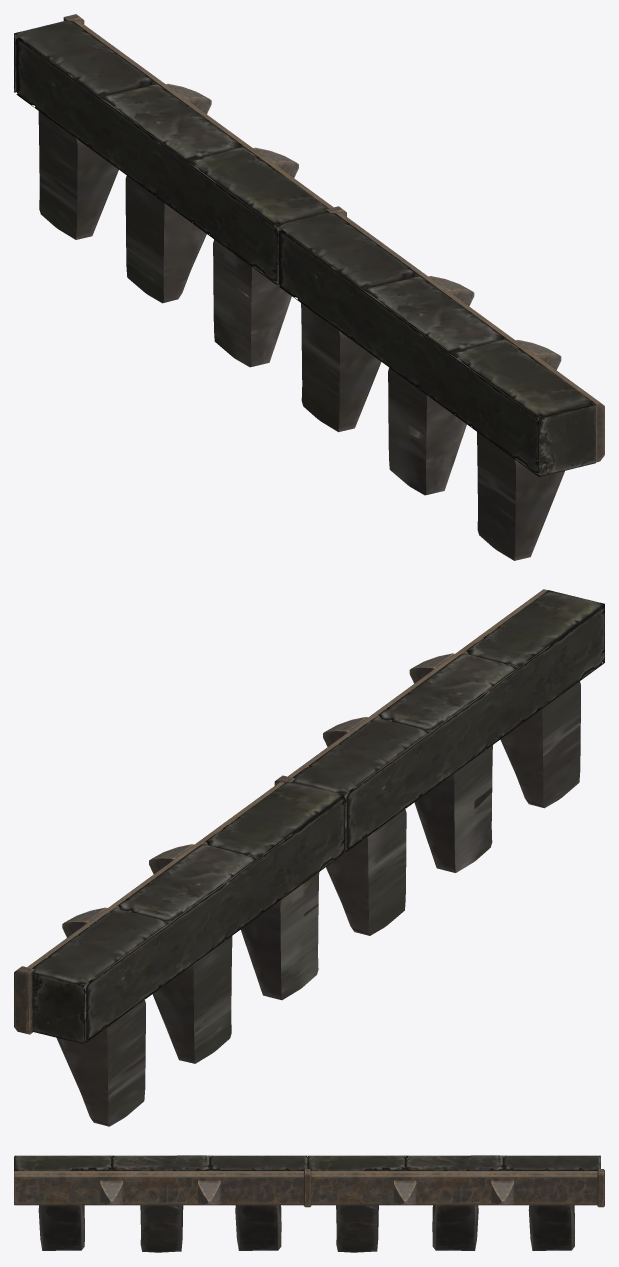
3 renders of one model, top to bottom at view 1: azimuth 30°, elevation 25°; view 2: azimuth 150°, elevation 25°; view 3: azimuth 270°, elevation 25°, orthographic. The views are drawn at different scales.
Visible parts, largest first — view 1: SM_Dowdun_Wall_Trim_8x1_01_LOD0; view 2: SM_Dowdun_Wall_Trim_8x1_01_LOD0; view 3: SM_Dowdun_Wall_Trim_8x1_01_LOD0.
Boxes of the visible parts, x1=… form: SM_Dowdun_Wall_Trim_8x1_01_LOD0: x1=14, y1=14, x2=604, y2=560; SM_Dowdun_Wall_Trim_8x1_01_LOD0: x1=14, y1=589, x2=604, y2=1126; SM_Dowdun_Wall_Trim_8x1_01_LOD0: x1=14, y1=1155, x2=604, y2=1252.
Bounding box in the file's own units: 0.9557 × 1.42 × 8.05.
3 materials, 3 textured.
